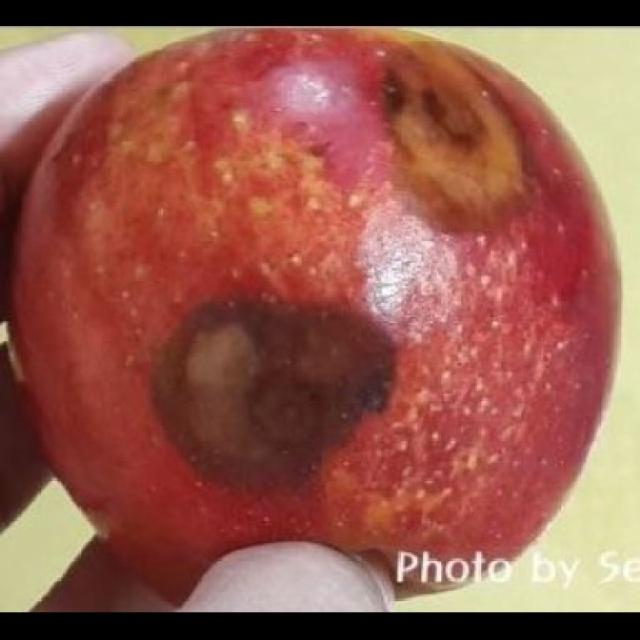Rotten Apple: (9, 28, 628, 600)
